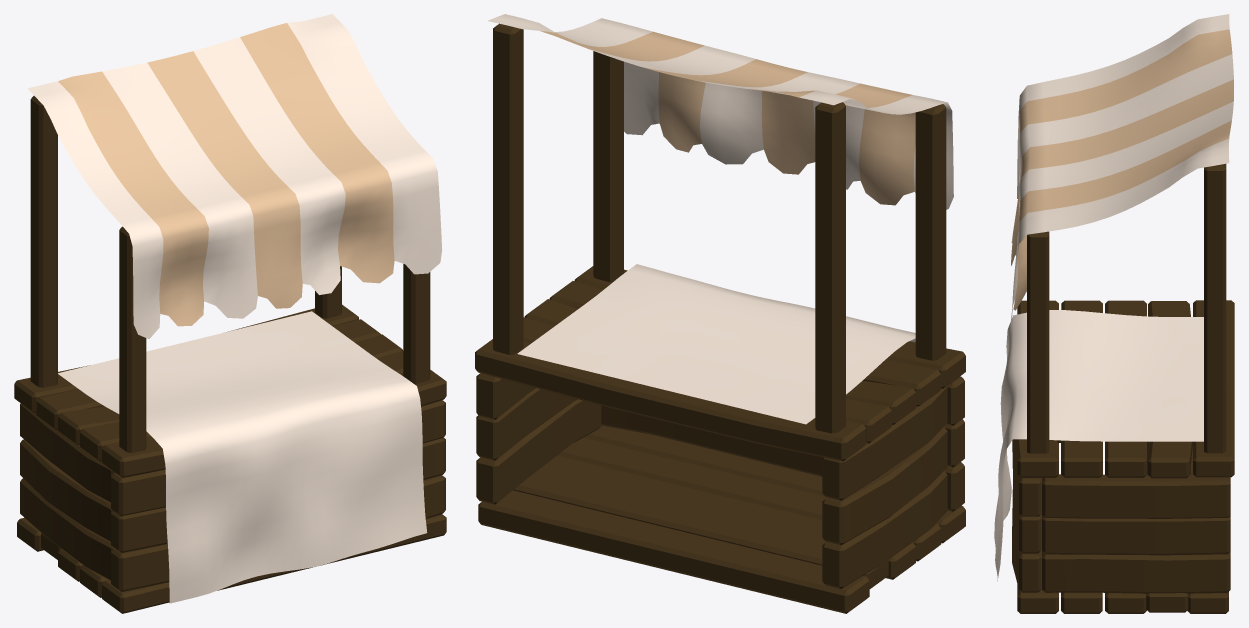
Rendered from LargeMarketStall.fbx.
The picture shows the model from 3 angles, left to right: view 1: azimuth 30°, elevation 25°; view 2: azimuth 150°, elevation 25°; view 3: azimuth 270°, elevation 25°; orthographic projection. The views are drawn at different scales.
Visible parts, largest first — view 1: LargeMarketStall2_Frame; view 2: LargeMarketStall2_Frame; view 3: LargeMarketStall2_Frame.
Part boxes in pixels (x1,y1,x2,y2): LargeMarketStall2_Frame: (14, 14, 446, 613); LargeMarketStall2_Frame: (475, 14, 965, 613); LargeMarketStall2_Frame: (994, 14, 1234, 613).
Size of the model in its own units: 312 by 401 by 194.
